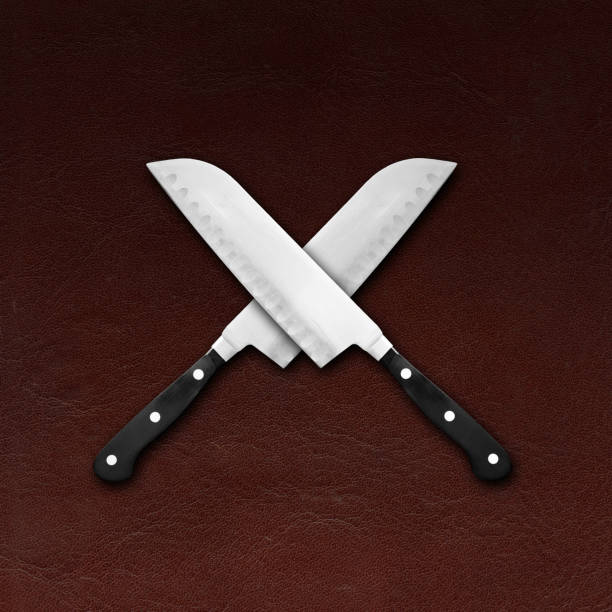knife: (143, 156, 518, 491), (88, 154, 460, 489)
